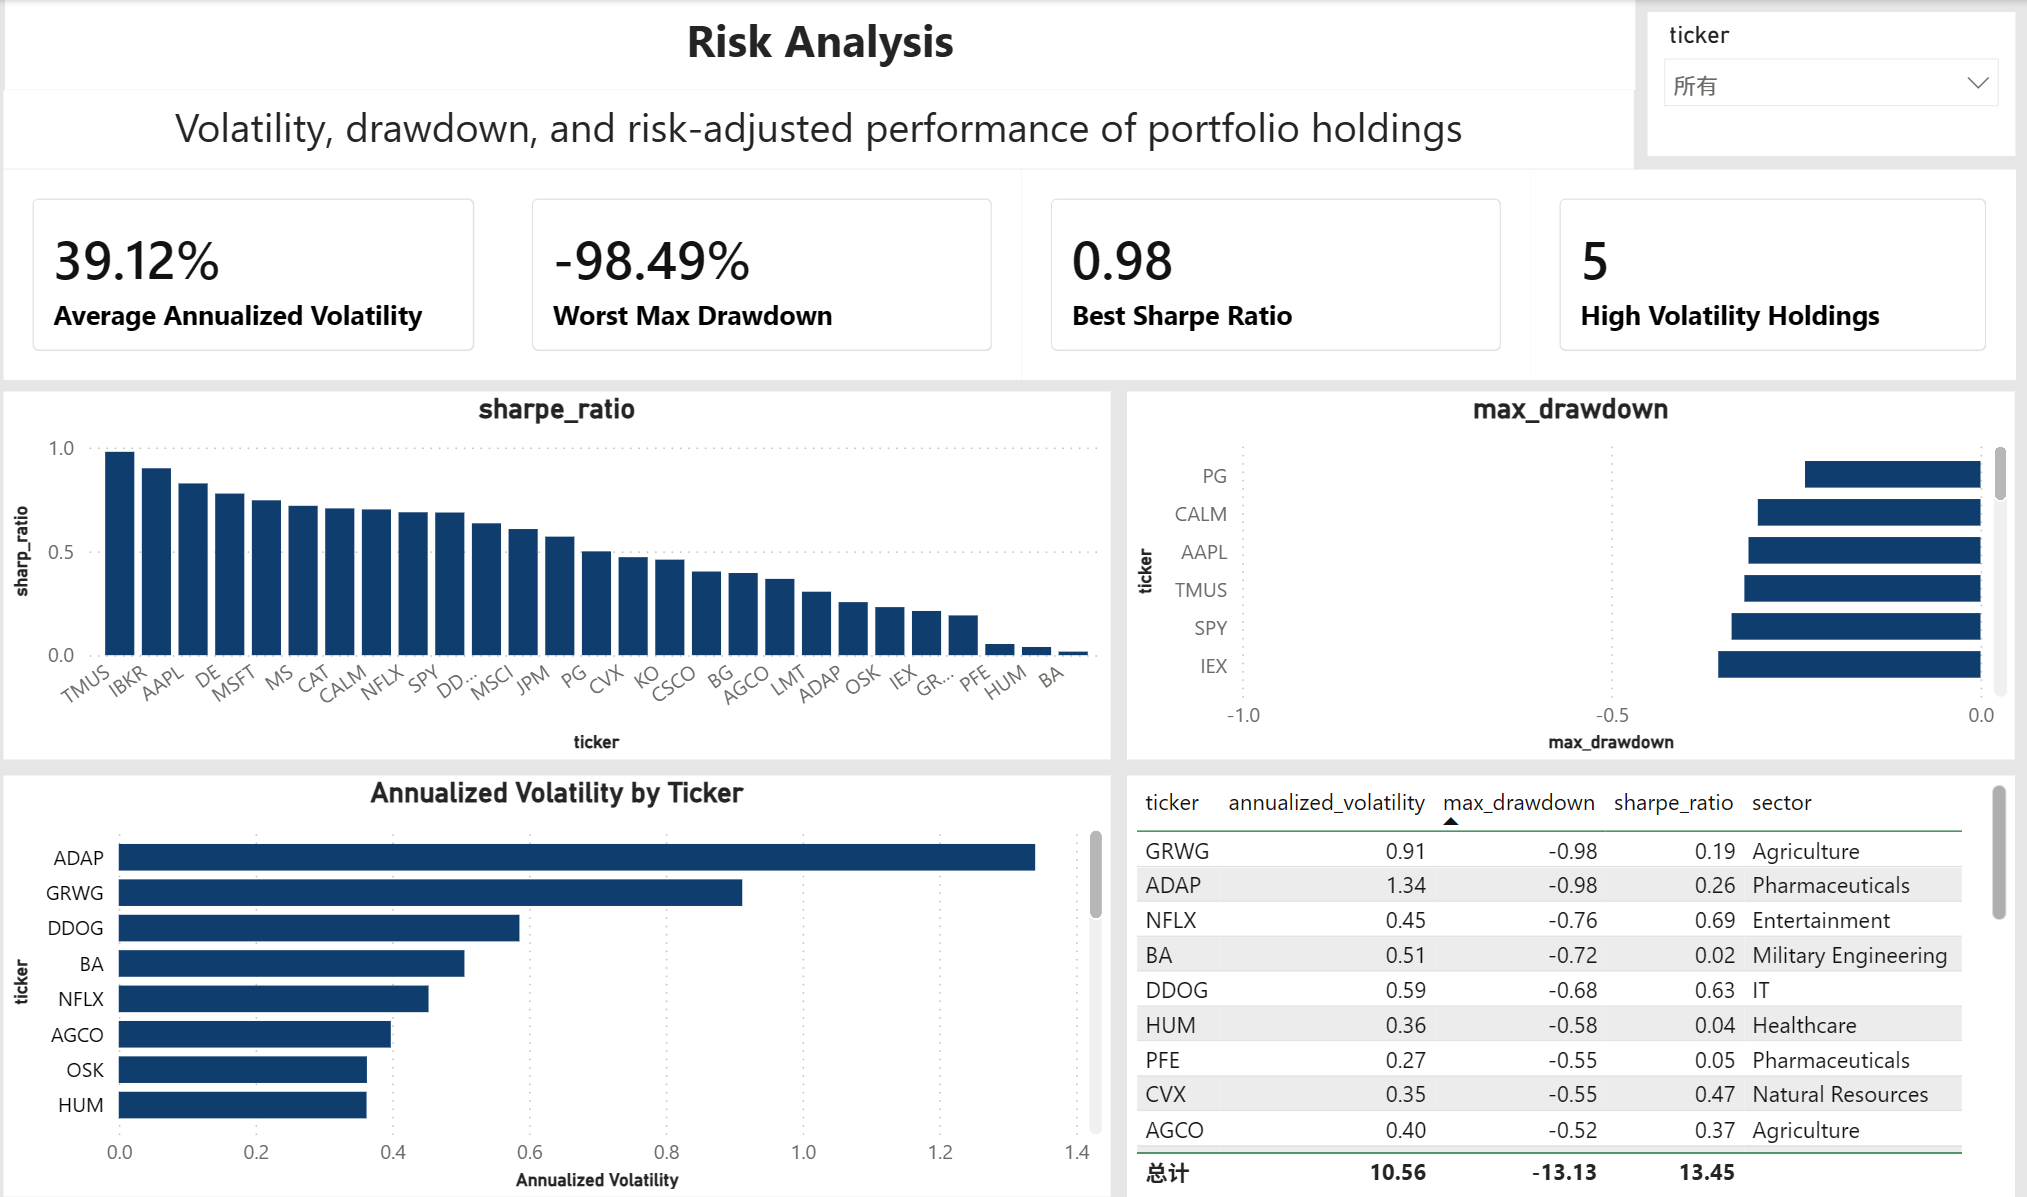

The dashboard page shown, as its layout file describes it:
{"tool":"powerbi","page":{"name":"Risk Analysis","canvas":[1280,720],"ordinal":2},"visuals":[{"type":"textbox","box":[63.4,0,980.6,54.3],"z":0},{"type":"textbox","box":[62.4,54.3,980.6,47.3],"z":1000},{"type":"cardVisual","fields":{"Data":["risk_metrics.High Volatility Holdings"]},"box":[980.6,101.6,291.7,126.7],"z":2000},{"type":"cardVisual","fields":{"Data":["risk_metrics.Average Annualized Volatility"]},"box":[62.4,101.6,300.7,126.7],"z":3000},{"type":"cardVisual","fields":{"Data":["risk_metrics.Worst Max Drawdown"]},"box":[363.1,101.6,311.8,126.7],"z":4000},{"type":"cardVisual","fields":{"Data":["risk_metrics.Best Sharpe Ratio"]},"box":[674.9,101.6,305.8,126.7],"z":5000},{"type":"clusteredBarChart","title":"Annualized Volatility by Ticker","fields":{"Category":["risk_metrics.ticker"],"Y":["Sum(risk_metrics.annualized_volatility)"]},"box":[62.4,466.7,665.8,253.5],"z":6000},{"type":"clusteredBarChart","title":"max_drawdown ","fields":{"Category":["risk_metrics.ticker"],"Y":["Sum(risk_metrics.max_drawdown)"]},"box":[738.2,235.4,534.1,221.3],"z":7000},{"type":"clusteredColumnChart","title":"sharpe_ratio ","fields":{"Category":["risk_metrics.ticker"],"Y":["Sum(risk_metrics.sharpe_ratio)"]},"box":[62.4,235.4,665.8,221.3],"z":8000},{"type":"tableEx","fields":{"Values":["risk_metrics.ticker","Sum(risk_metrics.annualized_volatility)","Sum(risk_metrics.max_drawdown)","Sum(risk_metrics.sharpe_ratio)","portfolio_summary.sector"]},"box":[738.2,466.7,534.1,253.5],"z":9000},{"type":"slicer","fields":{"Values":["risk_metrics.ticker"]},"box":[1051,7,221.3,86.5],"z":10000}]}

Visuals, with their boxes on the page's 1280x720 design canvas (x1, y1, x2, y2). These are canvas units, not pixel positions in the 2027x1197 screenshot, which may show the page scaled, cropped or inside an application window:
textbox: 63, 0, 1044, 54
textbox: 62, 54, 1043, 102
cardVisual - risk_metrics.High Volatility Holdings: 981, 102, 1272, 228
cardVisual - risk_metrics.Average Annualized Volatility: 62, 102, 363, 228
cardVisual - risk_metrics.Worst Max Drawdown: 363, 102, 675, 228
cardVisual - risk_metrics.Best Sharpe Ratio: 675, 102, 981, 228
"Annualized Volatility by Ticker" clusteredBarChart: 62, 467, 728, 720
"max_drawdown " clusteredBarChart: 738, 235, 1272, 457
"sharpe_ratio " clusteredColumnChart: 62, 235, 728, 457
tableEx - risk_metrics.ticker x Sum(risk_metrics.annualized_volatility): 738, 467, 1272, 720
slicer - risk_metrics.ticker: 1051, 7, 1272, 94
